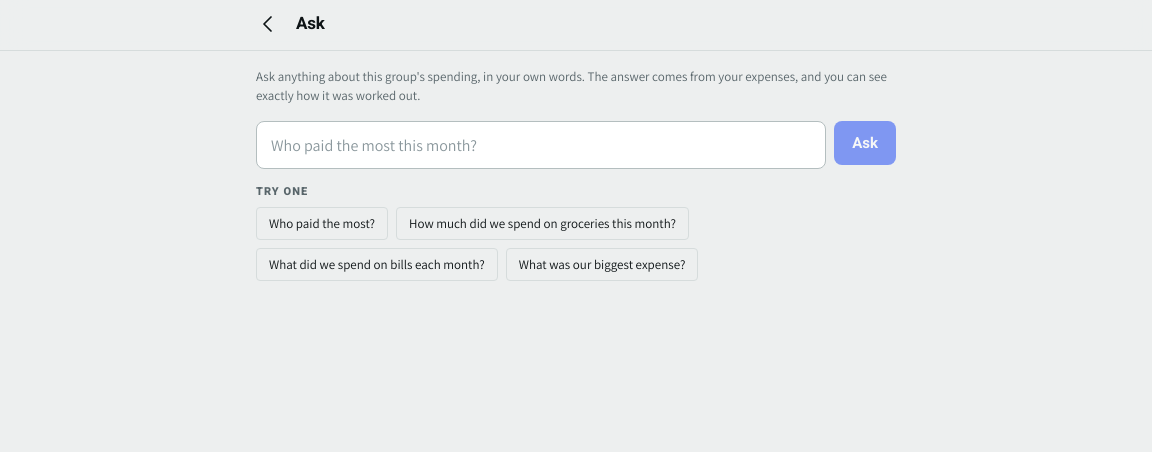
Test: asking a question (9.9) › a suggestion asks it, and the answer comes back as a table
Click the button "Who paid the most?": (322, 224) [256,207,388,240]
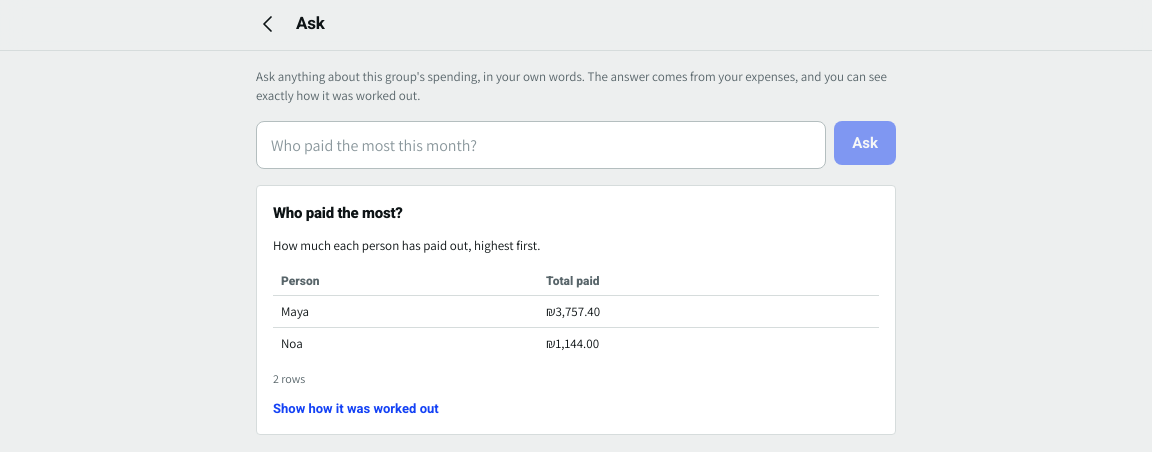
Check: the text "How much each person has paid out, highest first." is shown, box [273,237,540,254]
Check: the column heading "Person" is shown, box [273,267,538,296]
Check: the column heading "Total paid" is shown, box [538,267,879,296]
